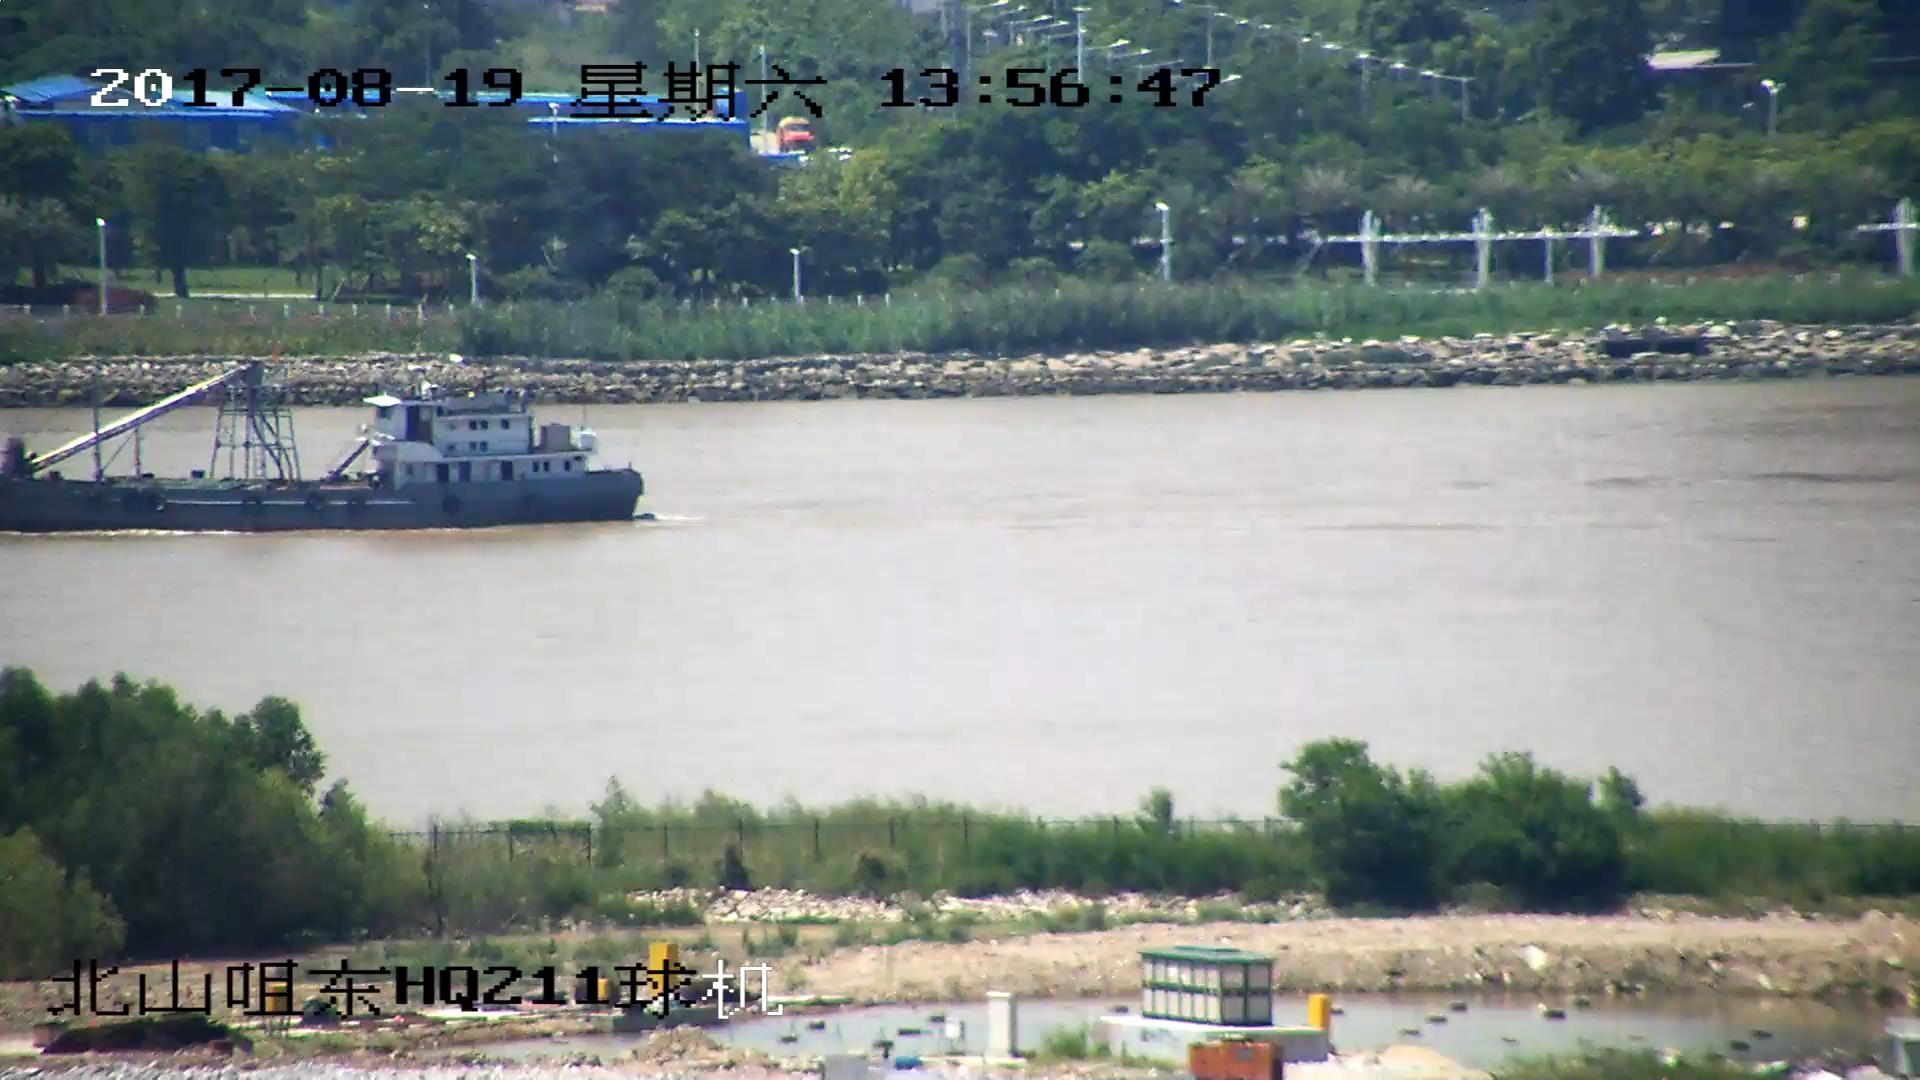fishing boat: (1, 357, 652, 531)
